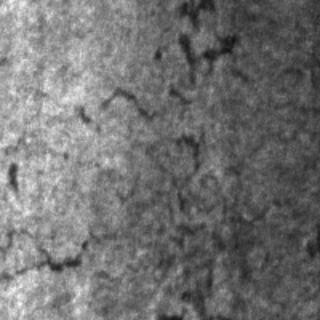crazing: (0, 130, 264, 318), (71, 0, 251, 136)
